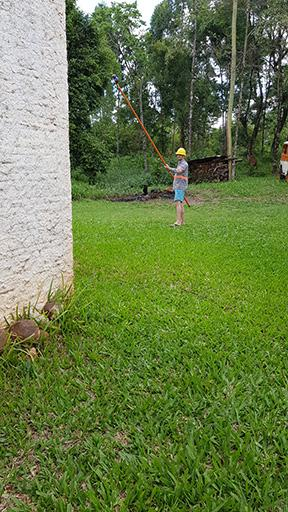Vara_Manobra: (115, 84, 190, 206)
